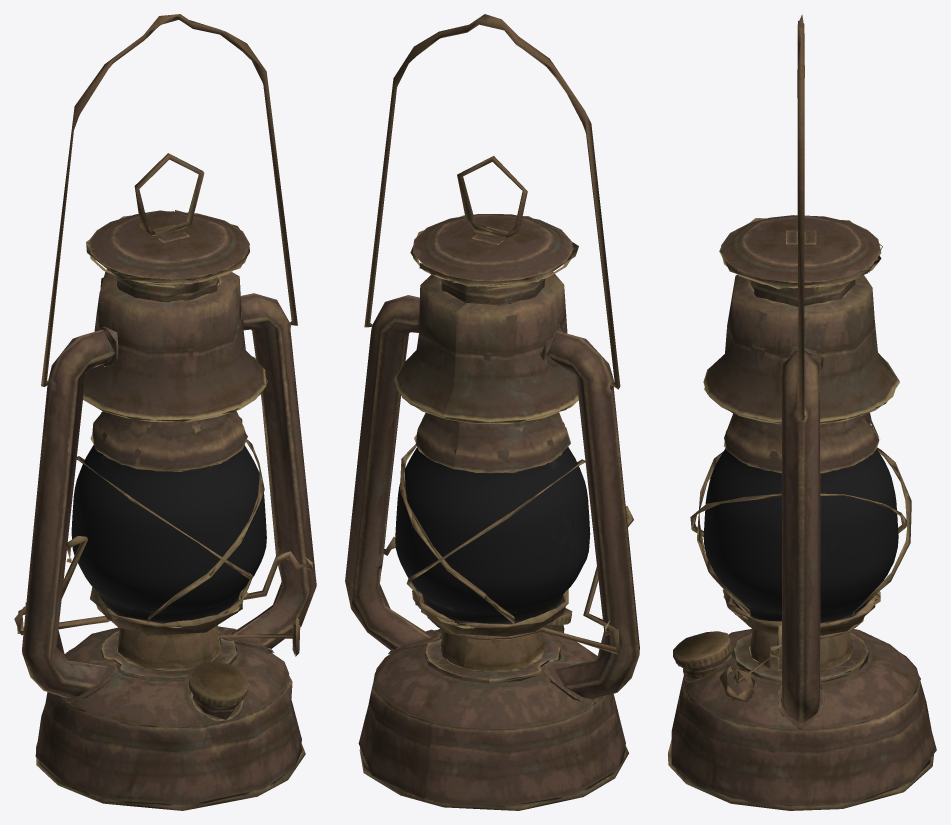
Rendered from Lantern_01.glb.
3 views of the same model, side by side, from view 1: azimuth 30°, elevation 25°; view 2: azimuth 150°, elevation 25°; view 3: azimuth 270°, elevation 25° (orthographic).
Visible parts, largest first — view 1: Lantern_01, Lantern_01_glass; view 2: Lantern_01, Lantern_01_glass; view 3: Lantern_01, Lantern_01_glass.
Part boxes in pixels (box(x1,y1,x2,y2)): Lantern_01: box(14, 14, 316, 810); Lantern_01_glass: box(71, 445, 266, 623); Lantern_01: box(345, 14, 639, 810); Lantern_01_glass: box(395, 447, 590, 623); Lantern_01: box(668, 14, 936, 810); Lantern_01_glass: box(703, 419, 898, 623).
Bounding box in the file's own units: 0.1224 × 0.294 × 0.0973.
Materials: 2 (2 with a texture image).
